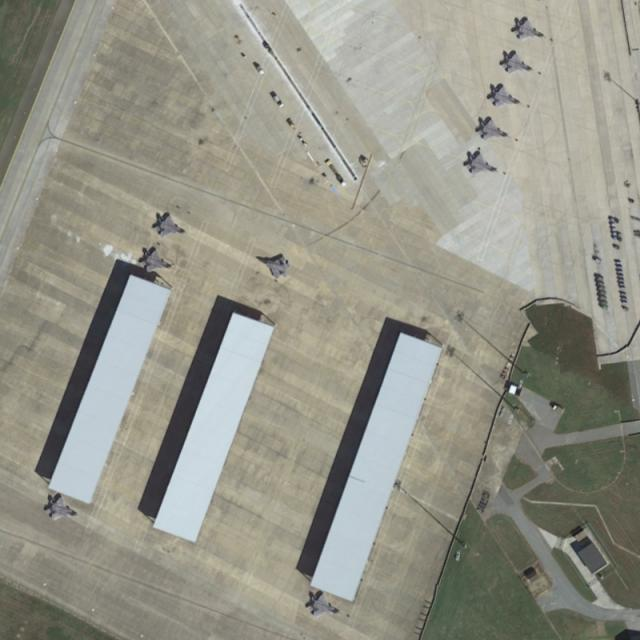fighter jet: (303, 590, 340, 618), (510, 14, 544, 42), (474, 115, 510, 141), (140, 245, 172, 274), (45, 493, 77, 522), (152, 210, 185, 237), (485, 82, 520, 106), (259, 253, 291, 279), (464, 149, 496, 175), (498, 50, 532, 74)
